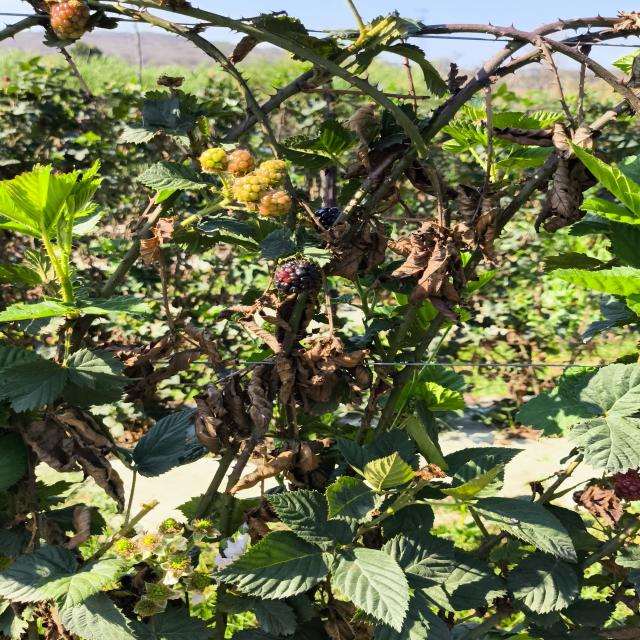marron: (275, 259, 320, 295)
naranja: (50, 0, 89, 39), (259, 191, 291, 217), (227, 150, 255, 176)
verde: (232, 175, 267, 202), (255, 159, 287, 188), (199, 147, 227, 173)
